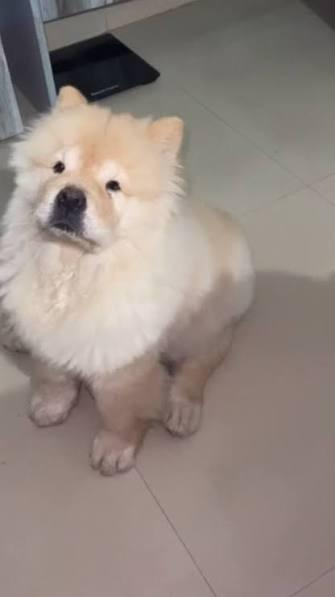adult_dog: (1, 83, 257, 478)
